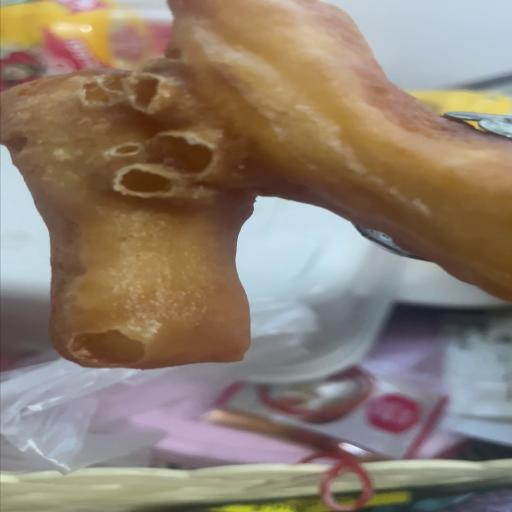street_burnt_defect: (151, 133, 213, 174)
